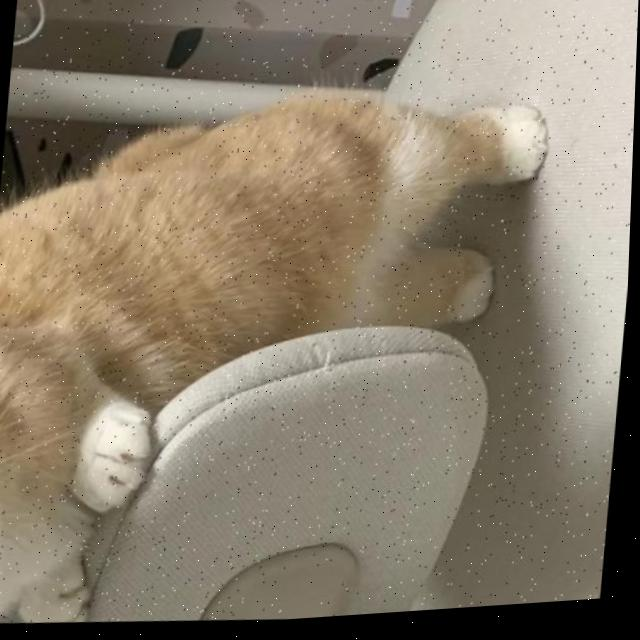Cats: (0, 71, 570, 557)
